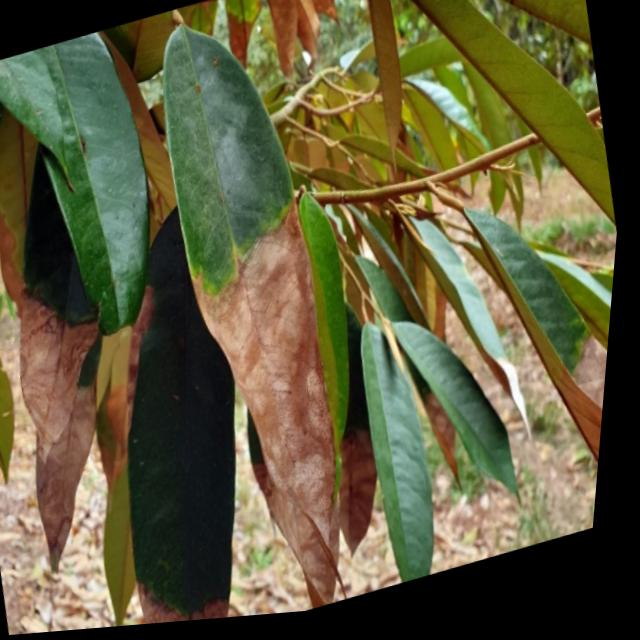Leaf Blight: (187, 188, 393, 625), (0, 279, 144, 574), (545, 335, 616, 545), (141, 572, 250, 628), (0, 186, 41, 323), (185, 269, 240, 366)
